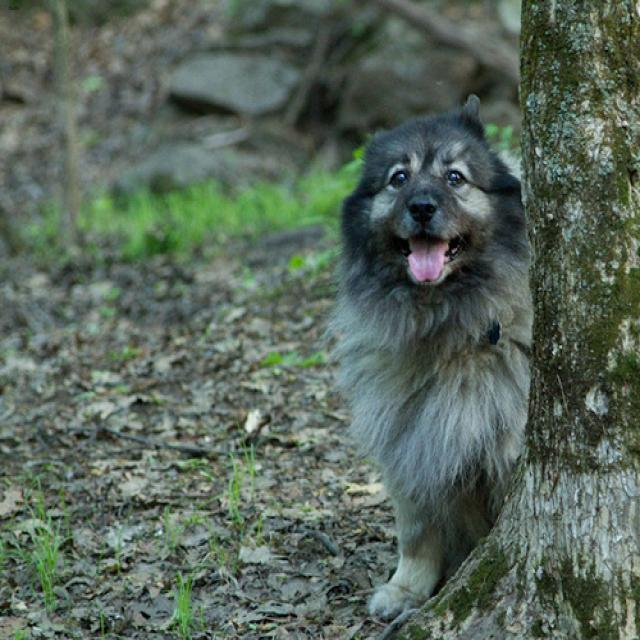dog-keeshond: (319, 83, 545, 634)
